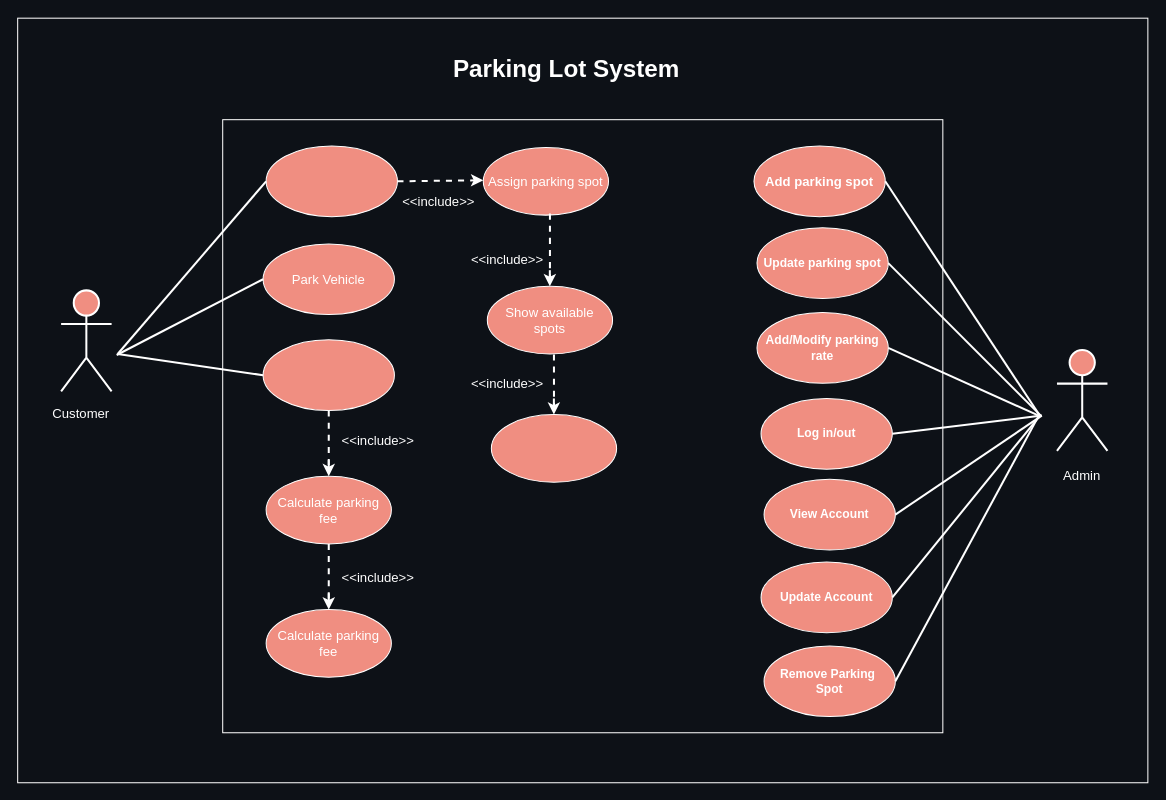
Some shapes in this 1166 by 800 pixel diagram are drawn without their labels. Here are the shapes that lost their labels. From the top down, the box of each, then its label:
(265, 145, 397, 217): Take Ticket
(262, 339, 394, 411): Scan ticket at exit
(490, 414, 617, 482): Show full
